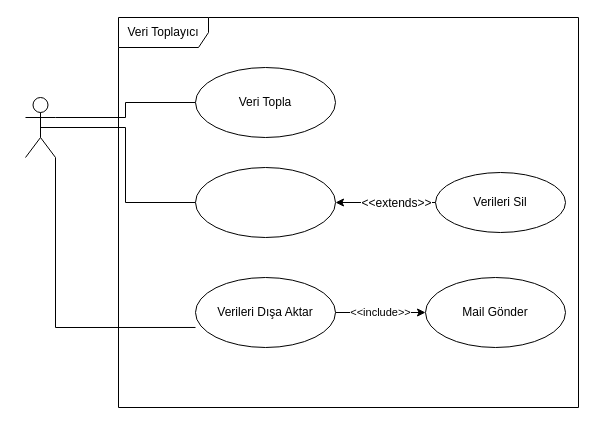
This 596x425 diagram has some shape labels left out. Here are the shapes that lost their labels. From the top down, the centre of each, then its label:
point 40,127: Kullanıcı
point 265,202: Toplanan Verilere Gözat
